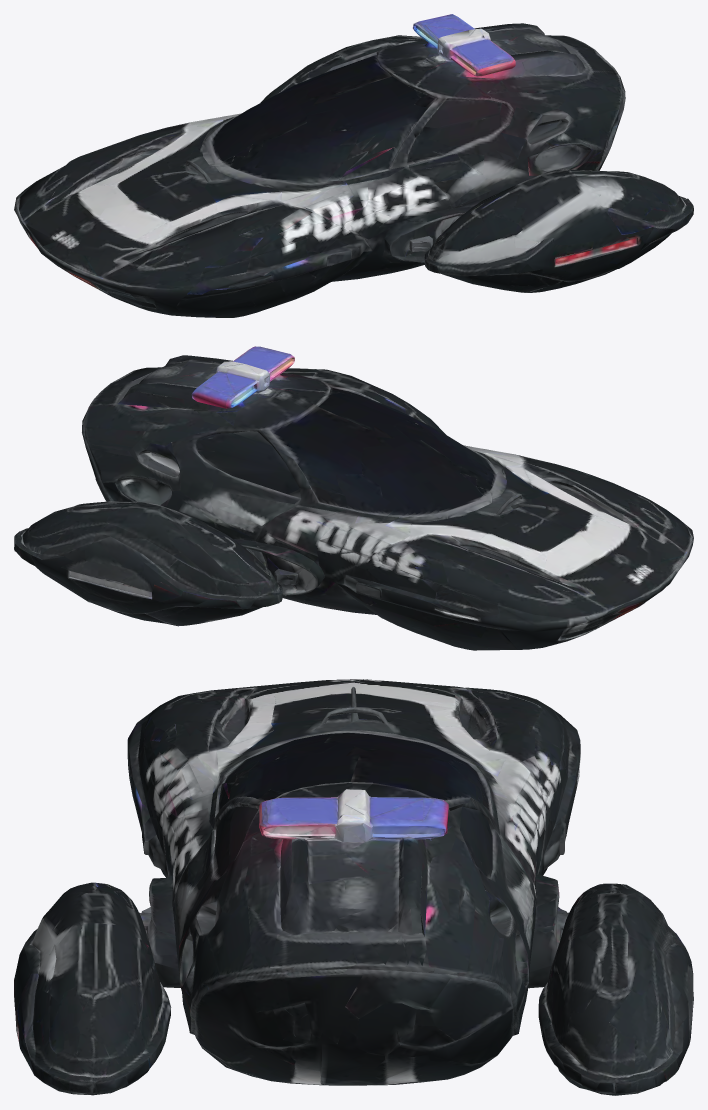
File: mx_police_hovercar.glb
The picture shows the model from 3 angles, top to bottom: view 1: azimuth 30°, elevation 25°; view 2: azimuth 150°, elevation 25°; view 3: azimuth 270°, elevation 25°; orthographic projection. The views are drawn at different scales.
Size of the model in its own units: 1.9 by 0.6242 by 1.41.
Materials: 1 (1 with a texture image).
